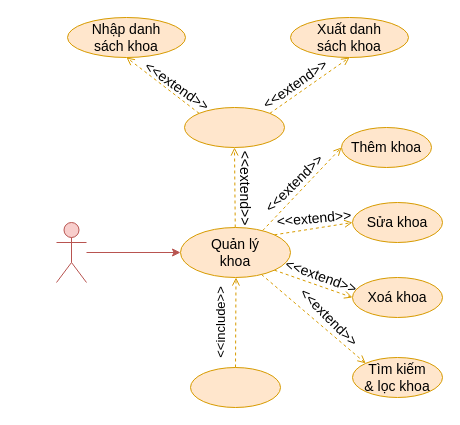
The diagram is 460 pixels wide and 425 high, and some of its shapes have lost their labels. The shapes that lost their labels are listed below. From the top down, each one's box as (x1, y1, x2, y2) in pixels, then its label:
(184, 106, 284, 148): Nhập/Xuất
(56, 222, 86, 282): Quản trị hệ thống
(190, 366, 280, 408): Đăng nhập
